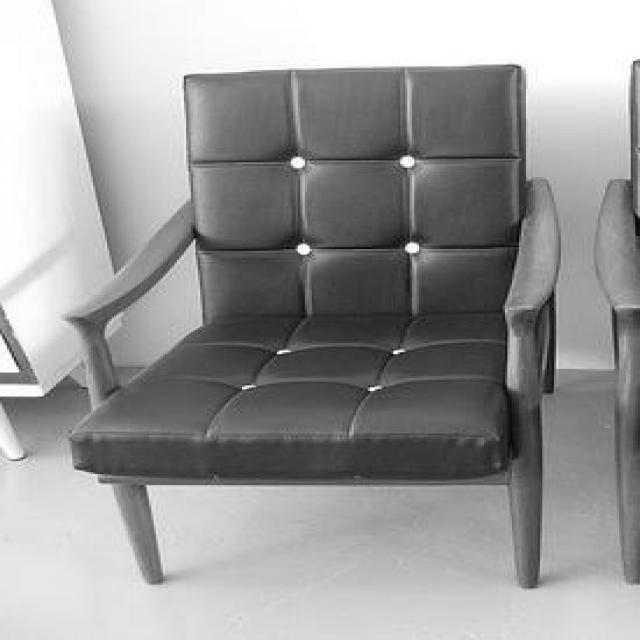chair: (56, 64, 574, 586)
